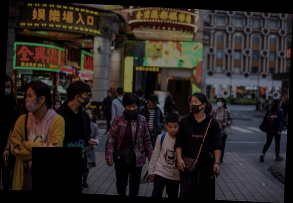mask_weared_incorrect: (24, 91, 40, 113)
with_mask: (124, 101, 139, 117), (189, 97, 204, 113), (77, 92, 91, 108), (5, 82, 12, 95), (215, 99, 224, 109)
without_mask: (167, 123, 180, 135), (149, 100, 157, 109)
